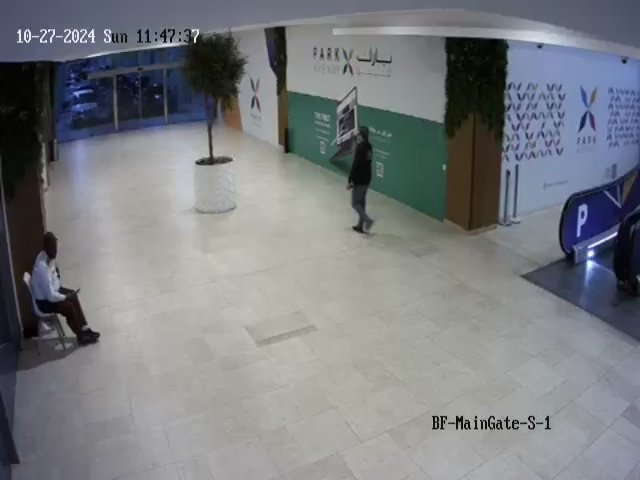male: (31, 232, 101, 346), (346, 127, 375, 235)
